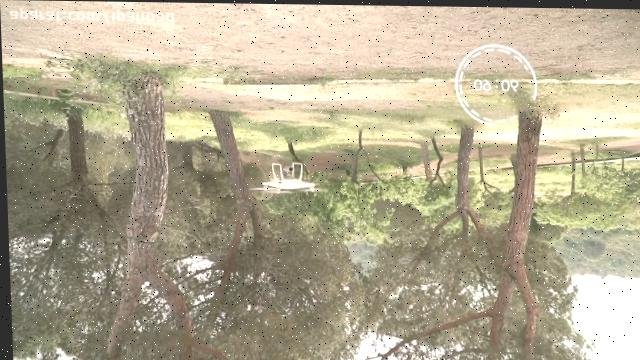drone: (242, 158, 326, 196)
